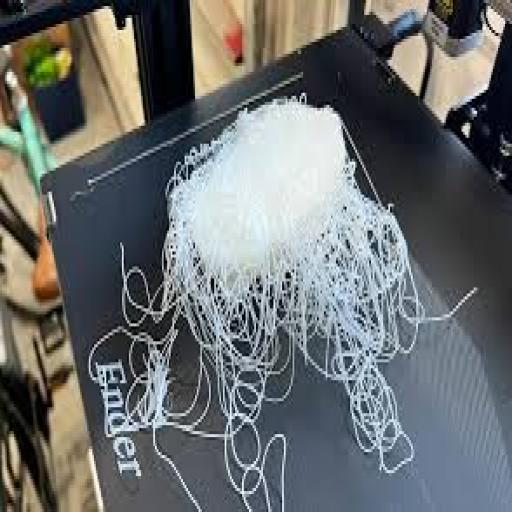spaghetti: (149, 59, 446, 479)
